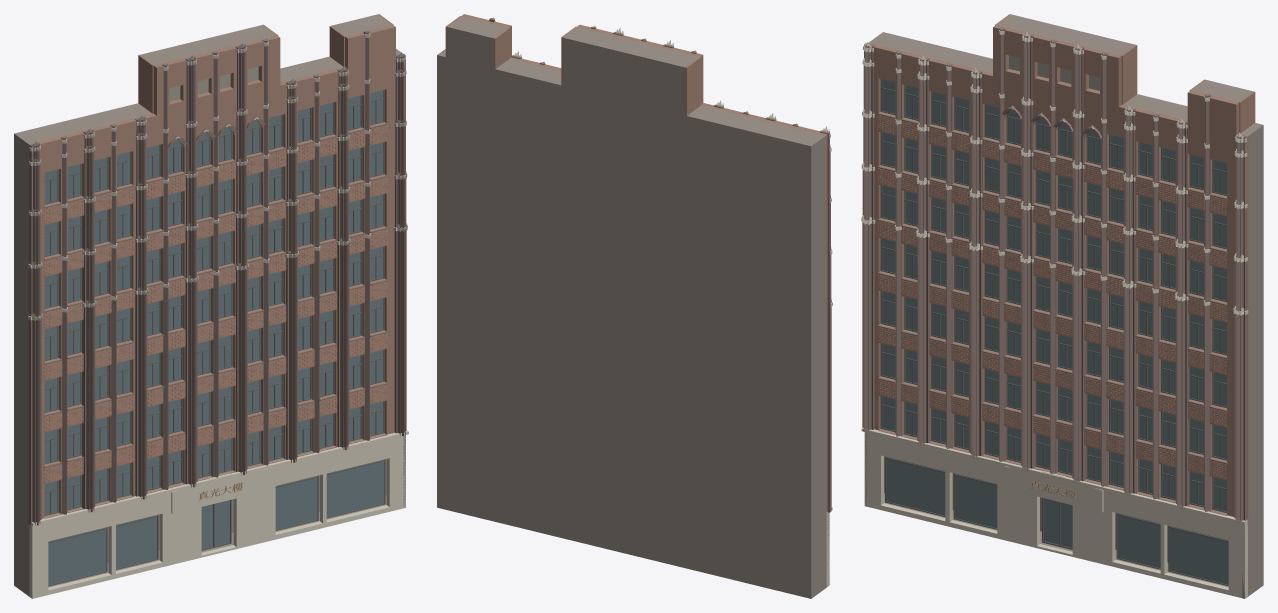
Rendered from huangpu-china-baptist-publication-building-raw.glb.
3 renders of one model, left to right at view 1: azimuth 30°, elevation 25°; view 2: azimuth 150°, elevation 25°; view 3: azimuth 330°, elevation 25°, orthographic.
Visible parts, largest first — view 1: 真光大楼（圆明园路东立面）; view 2: 真光大楼（圆明园路东立面）; view 3: 真光大楼（圆明园路东立面）.
Part boxes in pixels (x1=…): 真光大楼（圆明园路东立面）: x1=14, y1=14, x2=408, y2=598; 真光大楼（圆明园路东立面）: x1=437, y1=14, x2=832, y2=598; 真光大楼（圆明园路东立面）: x1=861, y1=14, x2=1263, y2=598.
Bounding box in the file's own units: 23.4 × 29.91 × 2.32.
